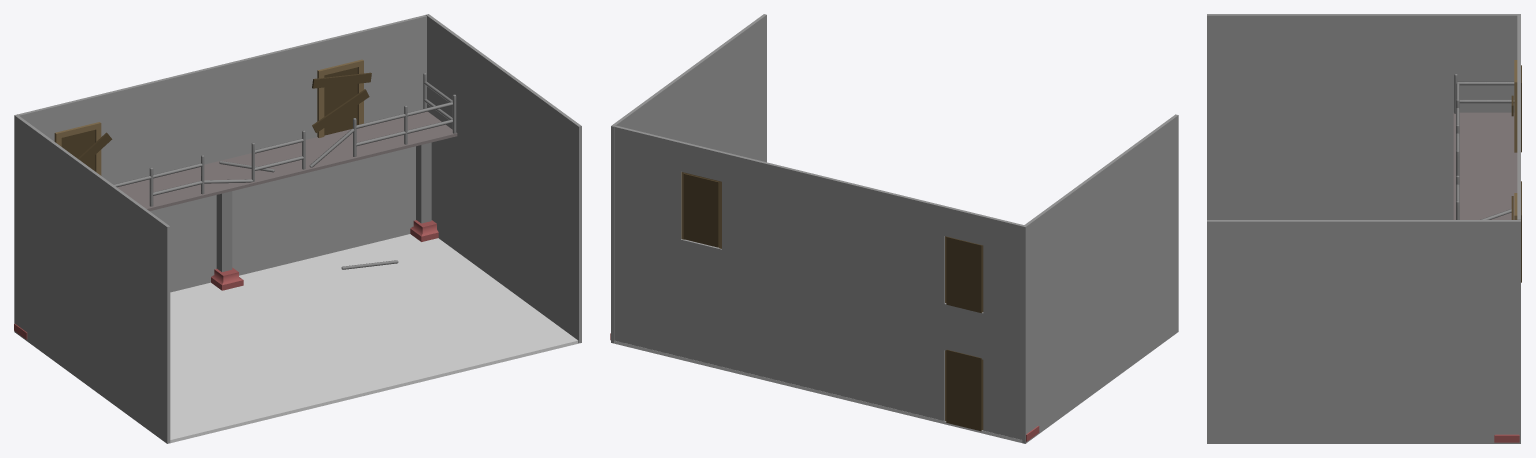
The model's file is Backstage_2.fbx.
3 views of the same model, side by side, from view 1: azimuth 30°, elevation 25°; view 2: azimuth 150°, elevation 25°; view 3: azimuth 270°, elevation 25° (orthographic). The views are drawn at different scales.
Visible parts, largest first — view 1: Walls, Floor, Catwalk, Supports, Fence, Boards, Doorframes; view 2: Walls, Boards, Floor, Doorframes; view 3: Walls, Catwalk, Fence, Doorframes, Boards.
Part boxes in pixels (box(x1,y1,x2,y2)): Walls: box(14, 14, 581, 443); Floor: box(170, 234, 578, 443); Catwalk: box(117, 111, 457, 211); Supports: box(14, 142, 438, 339); Fence: box(113, 73, 456, 206); Boards: box(61, 67, 371, 170); Doorframes: box(54, 59, 363, 175); Walls: box(611, 14, 1178, 443); Boards: box(683, 173, 982, 431); Floor: box(614, 340, 1022, 442); Doorframes: box(681, 172, 983, 429); Walls: box(1207, 14, 1520, 443); Catwalk: box(1453, 112, 1517, 219); Fence: box(1454, 74, 1514, 219); Doorframes: box(1514, 60, 1517, 219); Boards: box(1511, 65, 1521, 282).
Size of the model in its own units: 39.74 by 19.85 by 25.36.
